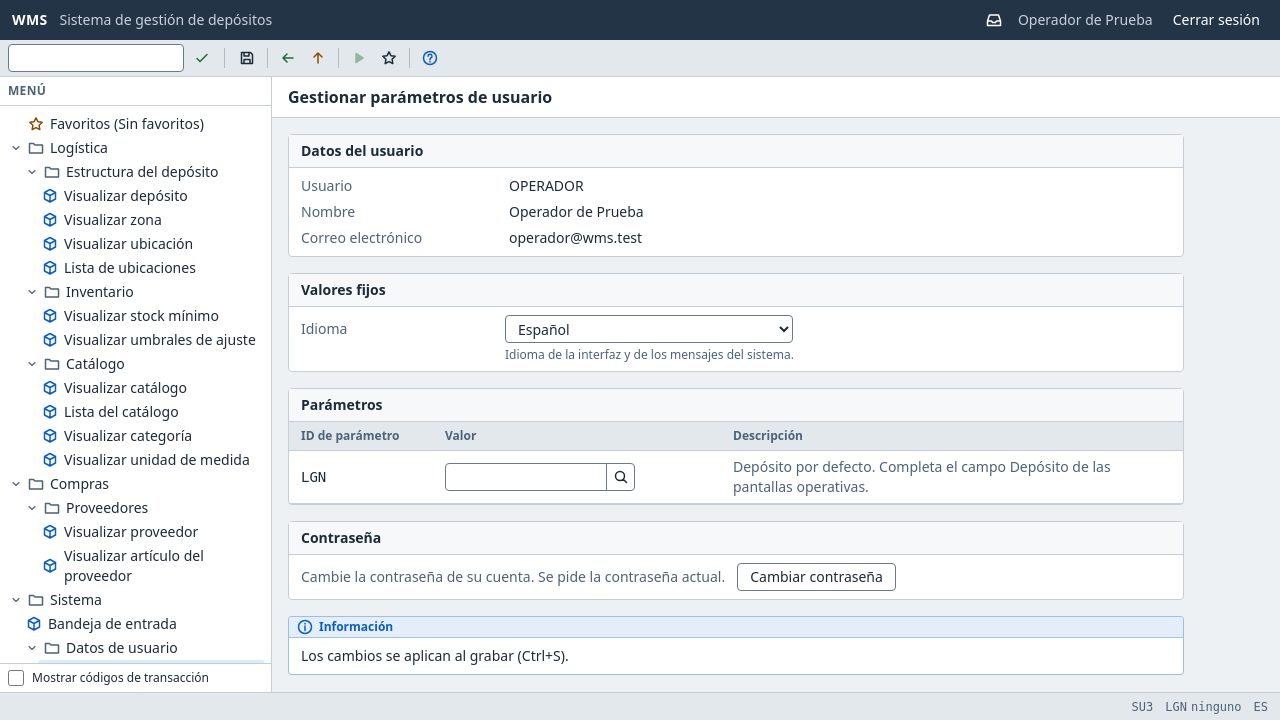
Test: armazón: aviso de datos sin grabar › salir sin grabar descarta los cambios y vuelve al menú
Type "NOR" into the field labelled "LGN" at (526, 477), box [446,464,606,490]
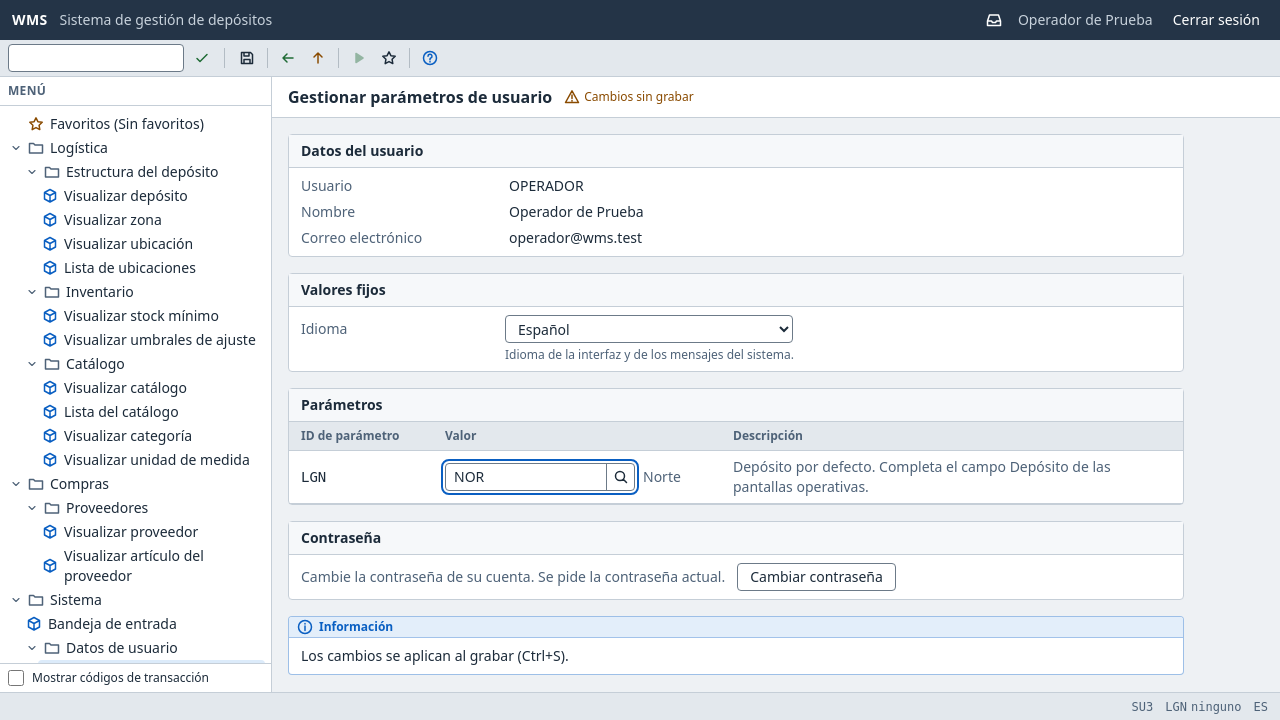
Press F3
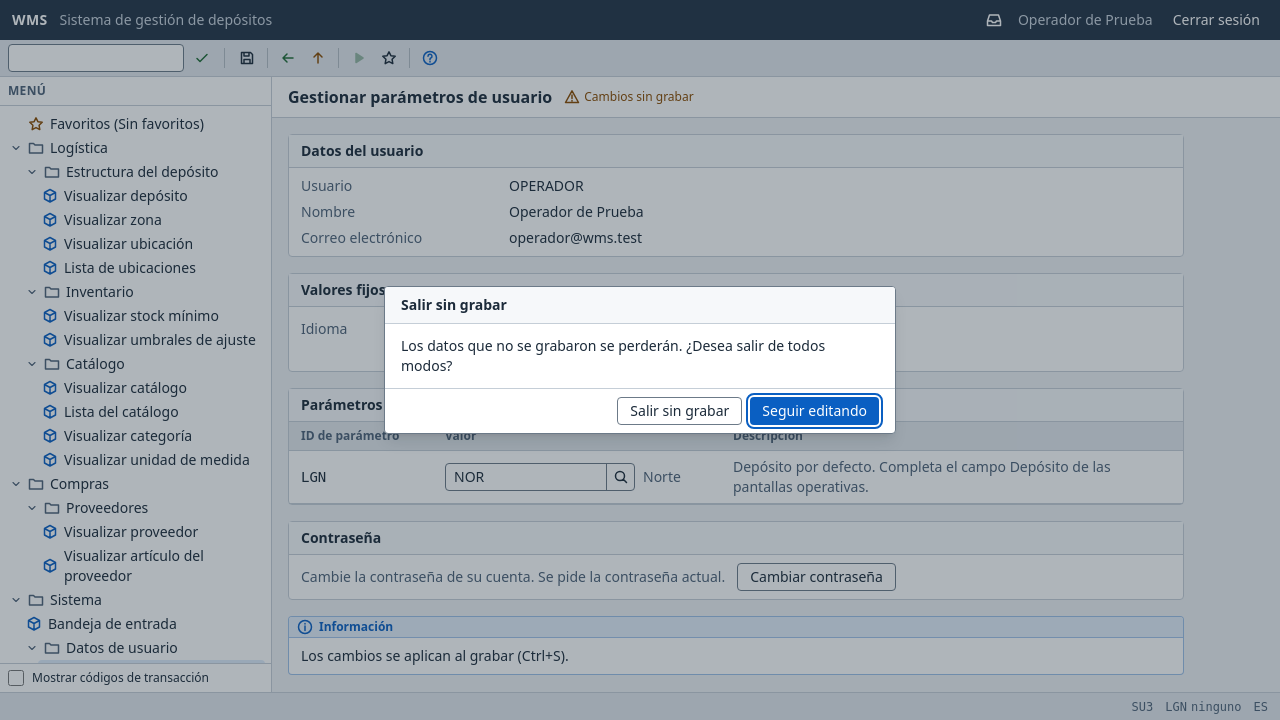
Click the button "Salir sin grabar" at (680, 411), box [617,397,742,425]
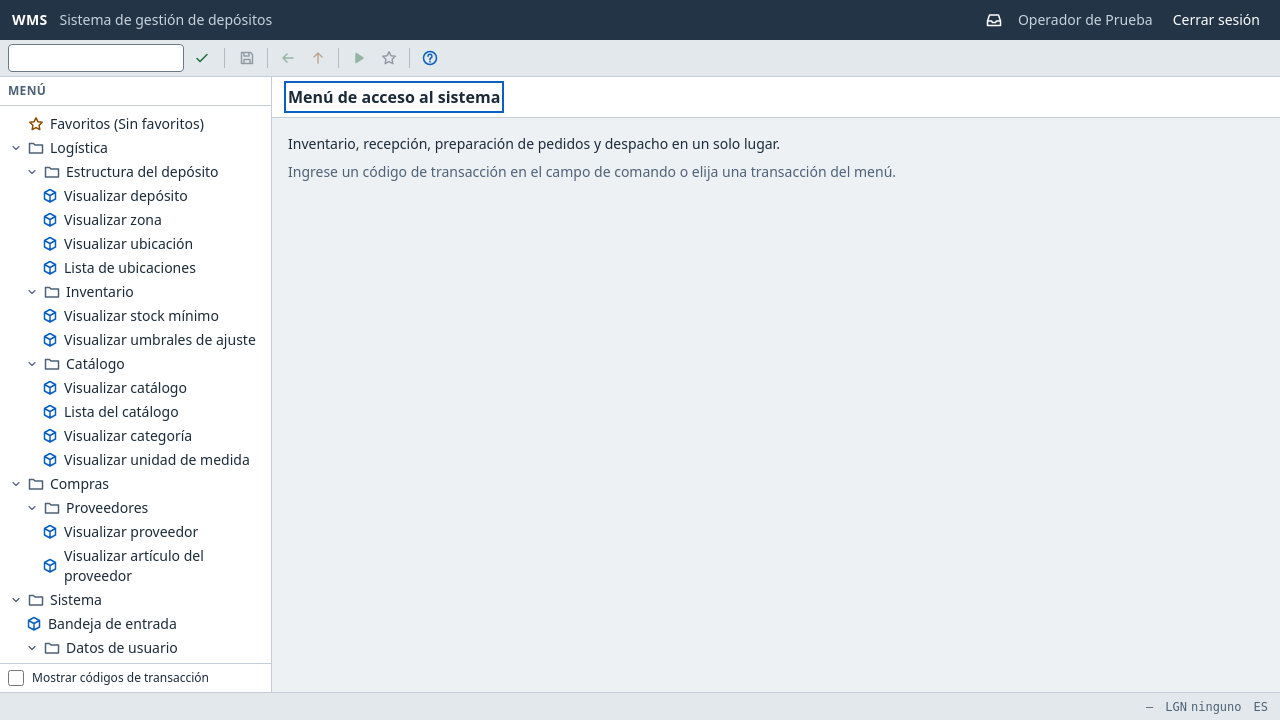
Now the heading "Menú de acceso al sistema" is shown, box [288,85,500,109]
